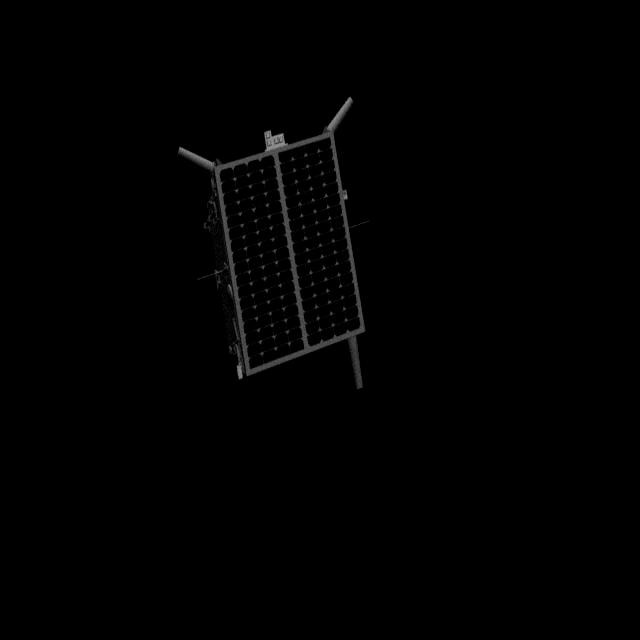satellite: (168, 98, 386, 394)
